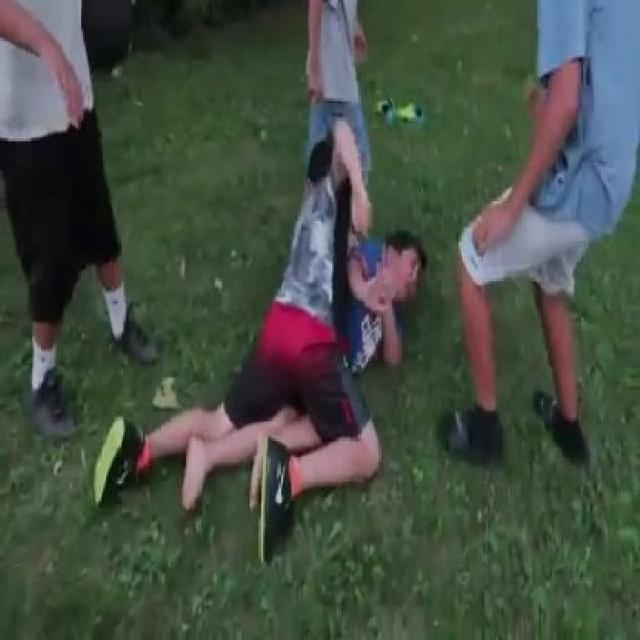fight: (92, 122, 430, 568)
non-fight: (432, 0, 640, 468), (0, 0, 162, 446), (292, 0, 375, 190)
